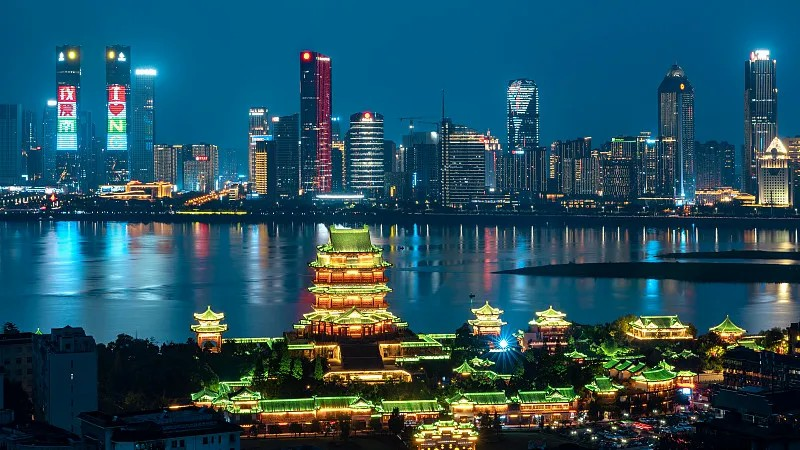Teng: (294, 225, 410, 336)
